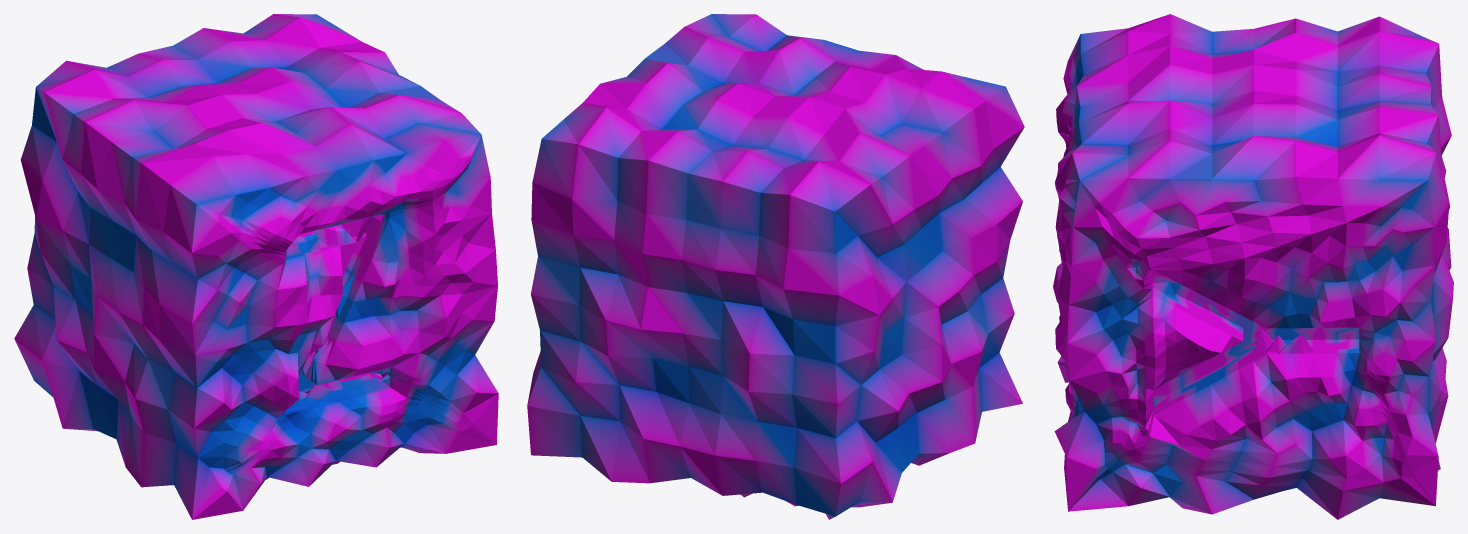
The picture shows the model from 3 angles, left to right: view 1: azimuth 30°, elevation 25°; view 2: azimuth 150°, elevation 25°; view 3: azimuth 270°, elevation 25°; orthographic projection. The views are drawn at different scales.
Bounding box in the file's own units: 1.08 × 1.09 × 1.08.
